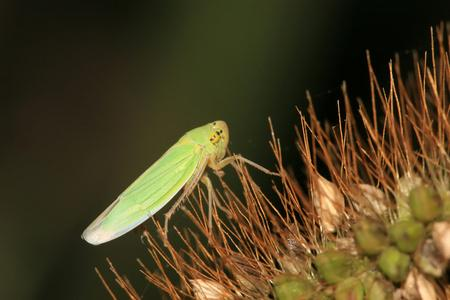Cicadellidae: (80, 120, 228, 246)
